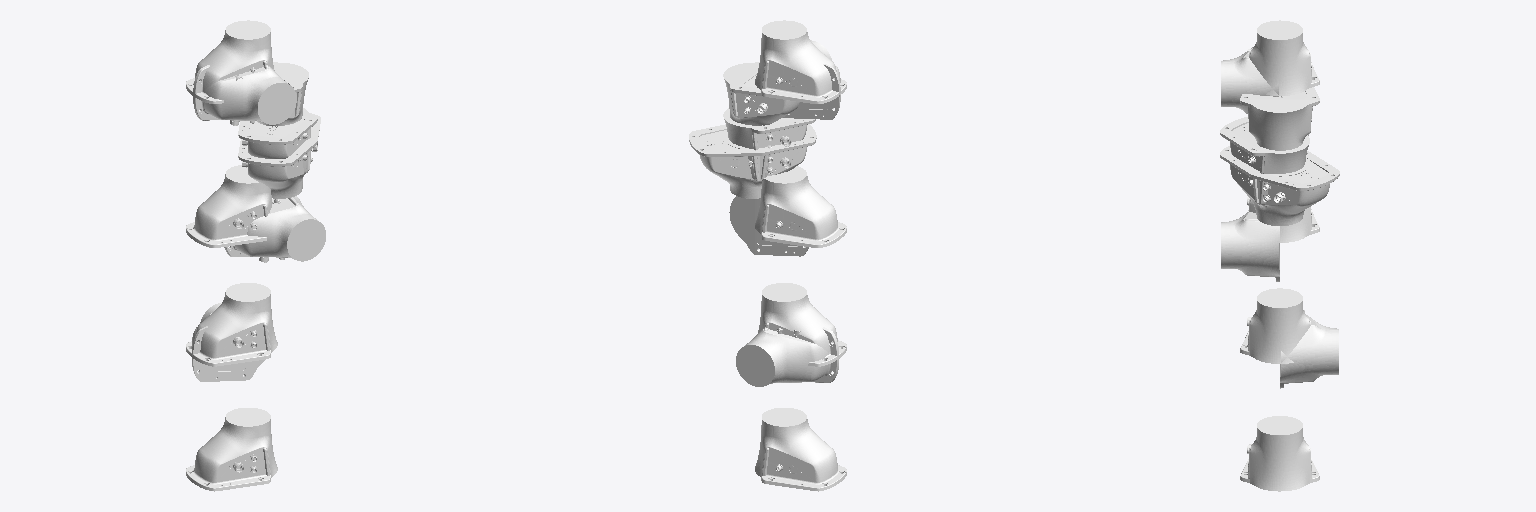
URDF robot description (panda):
<?xml version="1.0" ?>
<!-- =================================================================================== -->
<!-- |    This document was autogenerated by xacro from panda_arm_hand.urdf.xacro      | -->
<!-- |    EDITING THIS FILE BY HAND IS NOT RECOMMENDED                                 | -->
<!-- =================================================================================== -->
<robot name="panda" xmlns:xacro="http://www.ros.org/wiki/xacro">
  <link name="panda_link0">
    <visual>
      <geometry>
        <mesh filename="package://franka_description/meshes/visual/link0.dae"/>
      </geometry>
      <material name="panda_white"/>
    </visual>
    <collision>
      <geometry>
        <mesh filename="package://franka_description/meshes/visual/link0.dae"/>
      </geometry>
      <material name="panda_white"/>
    </collision>
  </link>
  <link name="panda_link1">
    <visual>
      <geometry>
        <mesh filename="package://franka_description/meshes/visual/link0.dae"/>
      </geometry>
      <material name="panda_white"/>
    </visual>
    <collision>
      <geometry>
        <mesh filename="package://franka_description/meshes/visual/link0.dae"/>
      </geometry>
      <material name="panda_white"/>
    </collision>
  </link>
  <joint name="panda_joint1" type="revolute">
    <safety_controller k_position="100.0" k_velocity="40.0" soft_lower_limit="-2.8973" soft_upper_limit="2.8973"/>
    <origin rpy="0 0 0" xyz="0 0 0.333"/>
    <parent link="panda_link0"/>
    <child link="panda_link1"/>
    <axis xyz="0 0 1"/>
    <limit effort="87" lower="-2.9671" upper="2.9671" velocity="2.1750"/>
  </joint>
  <link name="panda_link2">
    <visual>
      <geometry>
        <mesh filename="package://franka_description/meshes/visual/link0.dae"/>
      </geometry>
      <material name="panda_white"/>
    </visual>
    <collision>
      <geometry>
        <mesh filename="package://franka_description/meshes/visual/link0.dae"/>
      </geometry>
      <material name="panda_white"/>
    </collision>
  </link>
  <joint name="panda_joint2" type="revolute">
    <safety_controller k_position="100.0" k_velocity="40.0" soft_lower_limit="-1.7628" soft_upper_limit="1.7628"/>
    <origin rpy="-1.57079632679 0 0" xyz="0 0 0"/>
    <parent link="panda_link1"/>
    <child link="panda_link2"/>
    <axis xyz="0 0 1"/>
    <limit effort="87" lower="-1.8326" upper="1.8326" velocity="2.1750"/>
  </joint>
  <link name="panda_link3">
    <visual>
      <geometry>
        <mesh filename="package://franka_description/meshes/visual/link0.dae"/>
      </geometry>
      <material name="panda_white"/>
    </visual>
    <collision>
      <geometry>
        <mesh filename="package://franka_description/meshes/visual/link0.dae"/>
      </geometry>
      <material name="panda_white"/>
    </collision>
  </link>
  <joint name="panda_joint3" type="revolute">
    <safety_controller k_position="100.0" k_velocity="40.0" soft_lower_limit="-2.8973" soft_upper_limit="2.8973"/>
    <origin rpy="1.57079632679 0 0" xyz="0 -0.316 0"/>
    <parent link="panda_link2"/>
    <child link="panda_link3"/>
    <axis xyz="0 0 1"/>
    <limit effort="87" lower="-2.9671" upper="2.9671" velocity="2.1750"/>
  </joint>
  <link name="panda_link4">
    <visual>
      <geometry>
        <mesh filename="package://franka_description/meshes/visual/link0.dae"/>
      </geometry>
      <material name="panda_white"/>
    </visual>
    <collision>
      <geometry>
        <mesh filename="package://franka_description/meshes/visual/link0.dae"/>
      </geometry>
      <material name="panda_white"/>
    </collision>
  </link>
  <joint name="panda_joint4" type="revolute">
    <safety_controller k_position="100.0" k_velocity="40.0" soft_lower_limit="-3.0718" soft_upper_limit="-0.0698"/>
    <origin rpy="1.57079632679 0 0" xyz="0.0825 0 0"/>
    <parent link="panda_link3"/>
    <child link="panda_link4"/>
    <axis xyz="0 0 1"/>
    <limit effort="87" lower="-3.1416" upper="0.0" velocity="2.1750"/>
  </joint>
  <link name="panda_link5">
    <visual>
      <geometry>
        <mesh filename="package://franka_description/meshes/visual/link0.dae"/>
      </geometry>
      <material name="panda_white"/>
    </visual>
    <collision>
      <geometry>
        <mesh filename="package://franka_description/meshes/visual/link0.dae"/>
      </geometry>
      <material name="panda_white"/>
    </collision>
  </link>
  <joint name="panda_joint5" type="revolute">
    <safety_controller k_position="100.0" k_velocity="40.0" soft_lower_limit="-2.8973" soft_upper_limit="2.8973"/>
    <origin rpy="-1.57079632679 0 0" xyz="-0.0825 0.384 0"/>
    <parent link="panda_link4"/>
    <child link="panda_link5"/>
    <axis xyz="0 0 1"/>
    <limit effort="12" lower="-2.9671" upper="2.9671" velocity="2.6100"/>
  </joint>
  <link name="panda_link6">
    <visual>
      <geometry>
        <mesh filename="package://franka_description/meshes/visual/link0.dae"/>
      </geometry>
      <material name="panda_white"/>
    </visual>
    <collision>
      <geometry>
        <mesh filename="package://franka_description/meshes/visual/link0.dae"/>
      </geometry>
      <material name="panda_white"/>
    </collision>
  </link>
  <joint name="panda_joint6" type="revolute">
    <safety_controller k_position="100.0" k_velocity="40.0" soft_lower_limit="-0.0175" soft_upper_limit="3.7525"/>
    <origin rpy="1.57079632679 0 0" xyz="0 0 0"/>
    <parent link="panda_link5"/>
    <child link="panda_link6"/>
    <axis xyz="0 0 1"/>
    <limit effort="12" lower="-0.0873" upper="3.8223" velocity="2.6100"/>
  </joint>
  <link name="panda_link7">
    <visual>
      <geometry>
        <mesh filename="package://franka_description/meshes/visual/link0.dae"/>
      </geometry>
      <material name="panda_white"/>
    </visual>
    <collision>
      <geometry>
        <mesh filename="package://franka_description/meshes/visual/link0.dae"/>
      </geometry>
      <material name="panda_white"/>
    </collision>
  </link>
  <joint name="panda_joint7" type="revolute">
    <safety_controller k_position="100.0" k_velocity="40.0" soft_lower_limit="-2.8973" soft_upper_limit="2.8973"/>
    <origin rpy="1.57079632679 0 0" xyz="0.088 0 0"/>
    <parent link="panda_link6"/>
    <child link="panda_link7"/>
    <axis xyz="0 0 1"/>
    <limit effort="12" lower="-2.9671" upper="2.9671" velocity="2.6100"/>
  </joint>
  <link name="panda_link8"/>
  <joint name="panda_joint8" type="fixed">
    <origin rpy="0 0 0" xyz="0 0 0.107"/>
    <parent link="panda_link7"/>
    <child link="panda_link8"/>
    <axis xyz="0 0 0"/>
  </joint>
  <joint name="panda_hand_joint" type="fixed">
    <parent link="panda_link8"/>
    <child link="panda_hand"/>
    <origin rpy="0 0 -0.785398163397" xyz="0 0 0"/>
  </joint>
  <link name="panda_hand">
    <visual>
      <geometry>
        <mesh filename="package://franka_description/meshes/visual/link0.dae"/>
      </geometry>
      <material name="panda_white"/>
    </visual>
    <collision>
      <geometry>
        <mesh filename="package://franka_description/meshes/visual/link0.dae"/>
      </geometry>
      <material name="panda_white"/>
    </collision>
  </link>
  <link name="panda_leftfinger">
    <visual>
      <geometry>
        <mesh filename="package://franka_description/meshes/visual/link0.dae"/>
      </geometry>
      <material name="panda_white"/>
    </visual>
    <collision>
      <geometry>
        <mesh filename="package://franka_description/meshes/visual/link0.dae"/>
      </geometry>
      <material name="panda_white"/>
    </collision>
  </link>
  <link name="panda_rightfinger">
    <visual>
      <origin rpy="0 0 3.14159265359" xyz="0 0 0"/>
      <geometry>
        <mesh filename="package://franka_description/meshes/visual/link0.dae"/>
      </geometry>
      <material name="panda_white"/>
    </visual>
    <collision>
      <origin rpy="0 0 3.14159265359" xyz="0 0 0"/>
      <geometry>
        <mesh filename="package://franka_description/meshes/visual/link0.dae"/>
      </geometry>
      <material name="panda_white"/>
    </collision>
  </link>
  <joint name="panda_finger_joint1" type="prismatic">
    <parent link="panda_hand"/>
    <child link="panda_leftfinger"/>
    <origin rpy="0 0 0" xyz="0 0 0.0584"/>
    <axis xyz="0 1 0"/>
    <limit effort="20" lower="0.0" upper="0.04" velocity="0.2"/>
  </joint>
  <joint name="panda_finger_joint2" type="prismatic">
    <parent link="panda_hand"/>
    <child link="panda_rightfinger"/>
    <origin rpy="0 0 0" xyz="0 0 0.0584"/>
    <axis xyz="0 -1 0"/>
    <limit effort="20" lower="0.0" upper="0.04" velocity="0.2"/>
    <mimic joint="panda_finger_joint1"/>
  </joint>
  <material name="panda_white">
    <color rgba="1. 1. 1. 1."/>
  </material>
</robot>

--- Render facts (derived) ---
The picture shows the robot from 3 angles, left to right: view 1: azimuth 30°, elevation 25°; view 2: azimuth 150°, elevation 25°; view 3: azimuth 270°, elevation 25°; orthographic projection.
Robot: panda — 12 links, 11 joints (7 revolute, 2 prismatic, 2 fixed); root link panda_link0; default pose: all joints at 0.
Links seen in each view (by area): view 1: panda_link0, panda_link1, panda_link3, panda_link6, panda_link4, panda_link5, panda_leftfinger, panda_hand, panda_link2, panda_link7; view 2: panda_link0, panda_link5, panda_link3, panda_link2, panda_link1, panda_rightfinger, panda_link7, panda_hand, panda_link4, panda_leftfinger, panda_link6; view 3: panda_link0, panda_link1, panda_link5, panda_link7, panda_rightfinger, panda_link4, panda_link2, panda_hand, panda_link6, panda_leftfinger, panda_link3.
Link boxes in pixels (box(x1,y1,x2,y2)): panda_link0: box(186, 408, 277, 491); panda_link1: box(186, 283, 277, 366); panda_link3: box(186, 165, 272, 247); panda_link6: box(193, 65, 296, 125); panda_link4: box(224, 196, 325, 262); panda_link5: box(186, 20, 274, 103); panda_leftfinger: box(238, 138, 316, 198); panda_hand: box(238, 108, 317, 158); panda_link2: box(192, 303, 264, 381); panda_link7: box(257, 62, 308, 126); panda_link0: box(755, 408, 846, 491); panda_link5: box(755, 20, 846, 103); panda_link3: box(755, 166, 846, 247); panda_link2: box(736, 327, 839, 386); panda_link1: box(758, 283, 846, 366); panda_rightfinger: box(689, 124, 770, 198); panda_link7: box(723, 62, 799, 125); panda_hand: box(723, 108, 815, 158); panda_link4: box(729, 196, 808, 256); panda_leftfinger: box(723, 124, 816, 198); panda_link6: box(783, 40, 840, 119); panda_link0: box(1240, 416, 1319, 491); panda_link1: box(1240, 288, 1310, 363); panda_link5: box(1247, 20, 1319, 95); panda_link7: box(1240, 87, 1319, 150); panda_rightfinger: box(1251, 151, 1339, 225); panda_link4: box(1221, 212, 1279, 281); panda_link2: box(1280, 310, 1338, 388); panda_hand: box(1220, 117, 1309, 181); panda_link6: box(1221, 47, 1278, 113); panda_leftfinger: box(1220, 146, 1309, 224); panda_link3: box(1247, 197, 1319, 242).
Size in the robot's own frame: 0.385 by 0.2858 by 1.17 metres.
Meshes: 1 distinct files referenced, 11 mesh visuals loaded (1 Collada DAE).